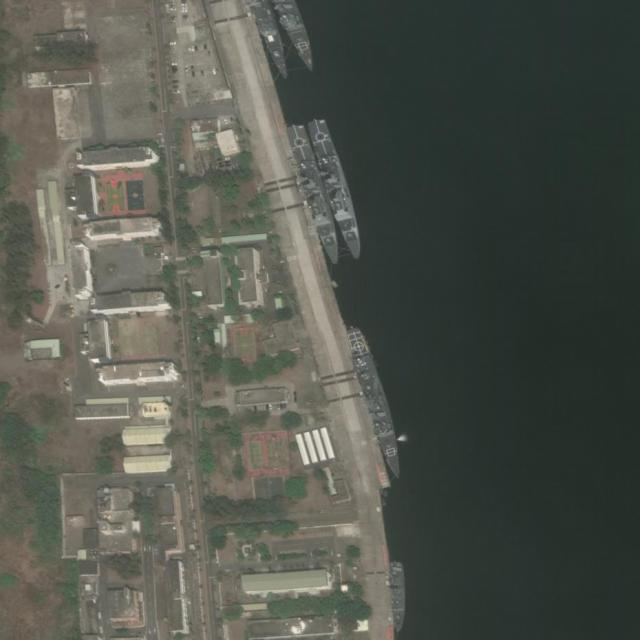Frigate: (343, 326, 411, 482), (285, 122, 347, 270), (306, 118, 367, 264)
